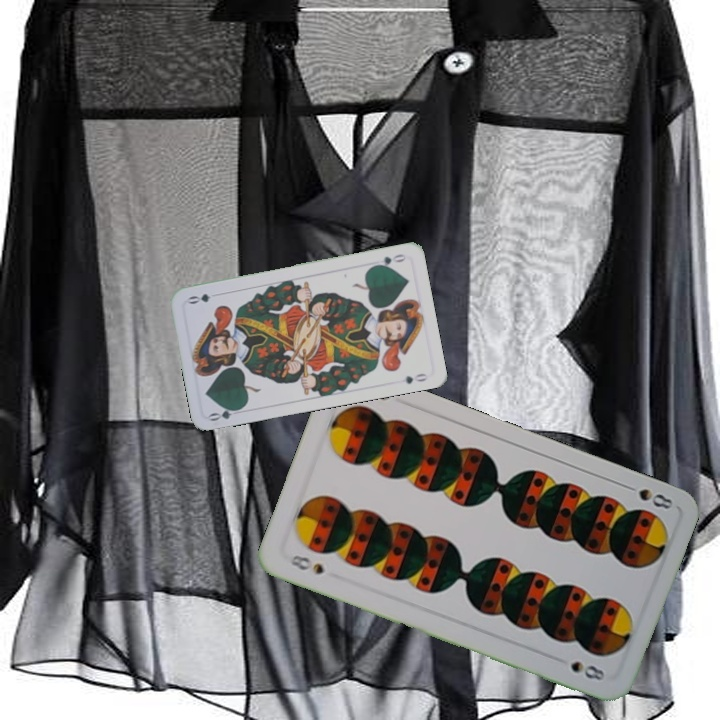GO: (205, 403, 246, 424), (369, 250, 409, 270)
S8: (619, 480, 676, 512), (285, 551, 327, 577)
